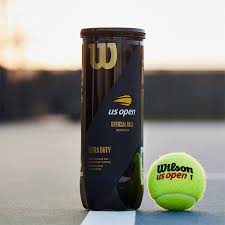tennis_ball: (146, 151, 208, 212)
